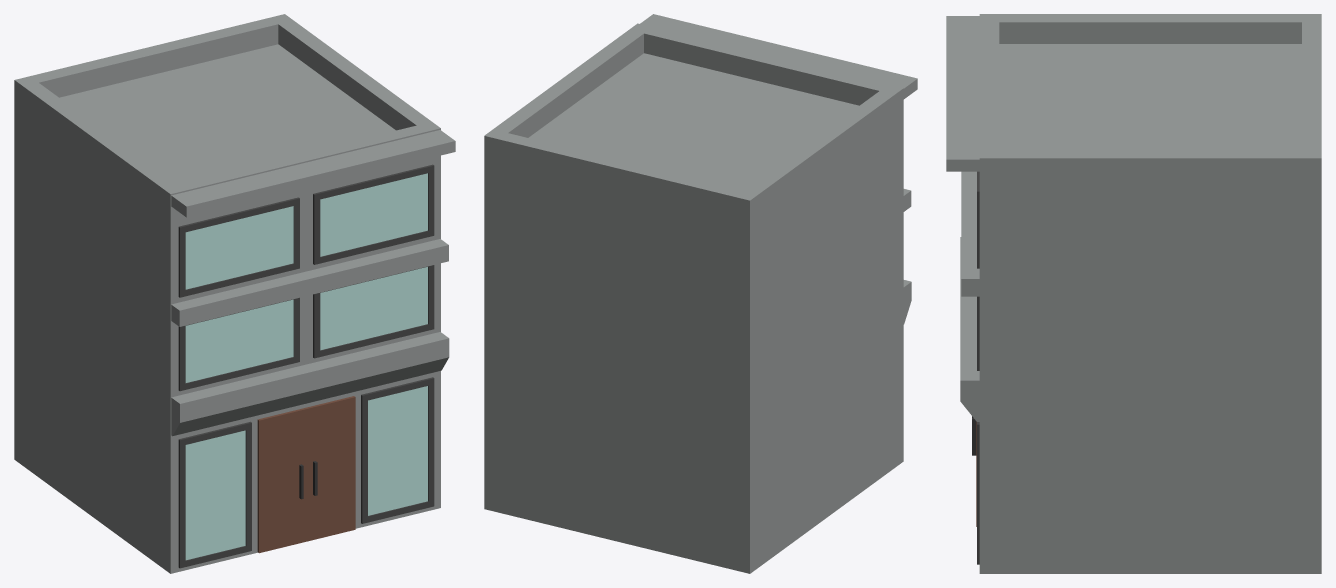
Rendered from BangunanGenericVar3.fbx.
3 renders of one model, left to right at view 1: azimuth 30°, elevation 25°; view 2: azimuth 150°, elevation 25°; view 3: azimuth 270°, elevation 25°, orthographic. The views are drawn at different scales.
Visible parts, largest first — view 1: Bangunan_Var3_rev; view 2: Bangunan_Var3_rev; view 3: Bangunan_Var3_rev.
Part boxes in pixels (bbox=[...]): Bangunan_Var3_rev: bbox=[14, 14, 455, 573]; Bangunan_Var3_rev: bbox=[484, 14, 917, 573]; Bangunan_Var3_rev: bbox=[946, 14, 1321, 573].
Size of the model in its own units: 299 by 401 by 328.
1 material, 1 textured.
